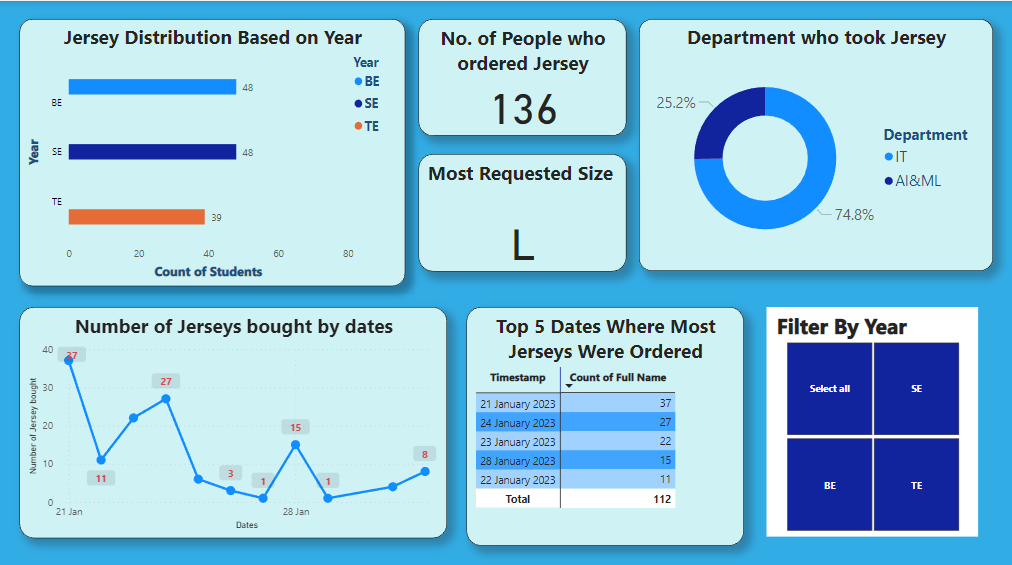

The dashboard page shown, as its layout file describes it:
{"tool":"powerbi","page":{"name":"Dashboard","canvas":[1280,720],"ordinal":0},"visuals":[{"type":"donutChart","title":"Department  who took Jersey","fields":{"Y":["Form Responses 1.Department "],"Category":["Form Responses 1.Department "]},"box":[805,22.7,446,317.5],"z":0},{"type":"card","title":"No. of People who ordered Jersey","fields":{"Values":["Form Responses 1.Full Name "]},"box":[526.8,23.3,262,147],"z":1000},{"type":"pivotTable","title":"Top 5 Dates Where Most Jerseys Were Ordered","fields":{"Values":["Jersey_data.Full Name "],"Rows":["Jersey_data.Timestamp"]},"box":[587.7,385.5,349.6,300.5],"z":2000},{"type":"card","title":"Most Requested Size ","fields":{"Values":["Jersey_data.Top User"]},"box":[526.8,193.3,262,148],"z":3000},{"type":"clusteredBarChart","title":"Jersey Distribution Based on Year ","fields":{"Category":["Jersey_data.Year"],"Y":["Jersey_data.Full Name "],"Series":["Jersey_data.Year"]},"box":[24.6,22.7,485.7,336.4],"z":4000},{"type":"lineChart","title":"Number of Jerseys bought by dates","fields":{"Category":["Jersey_data.Timestamp"],"Y":["Jersey_data.Full Name "]},"box":[24.6,385.5,538.6,291],"z":5000},{"type":"slicer","fields":{"Values":["Jersey_data.Year"]},"box":[965.7,385.5,266.5,289.1],"z":6000}]}

Visuals, with their boxes in screenshot pixels (x1, y1, x2, y2), scaled from the page's 1280x720 canvas onto the 1012x565 screenshot:
"Department  who took Jersey" donutChart: {"x1": 636, "y1": 18, "x2": 989, "y2": 267}
"No. of People who ordered Jersey" card: {"x1": 417, "y1": 18, "x2": 624, "y2": 134}
"Top 5 Dates Where Most Jerseys Were Ordered" pivotTable: {"x1": 465, "y1": 303, "x2": 741, "y2": 538}
"Most Requested Size " card: {"x1": 417, "y1": 152, "x2": 624, "y2": 268}
"Jersey Distribution Based on Year " clusteredBarChart: {"x1": 19, "y1": 18, "x2": 403, "y2": 282}
"Number of Jerseys bought by dates" lineChart: {"x1": 19, "y1": 303, "x2": 445, "y2": 531}
slicer - Jersey_data.Year: {"x1": 764, "y1": 303, "x2": 974, "y2": 529}
